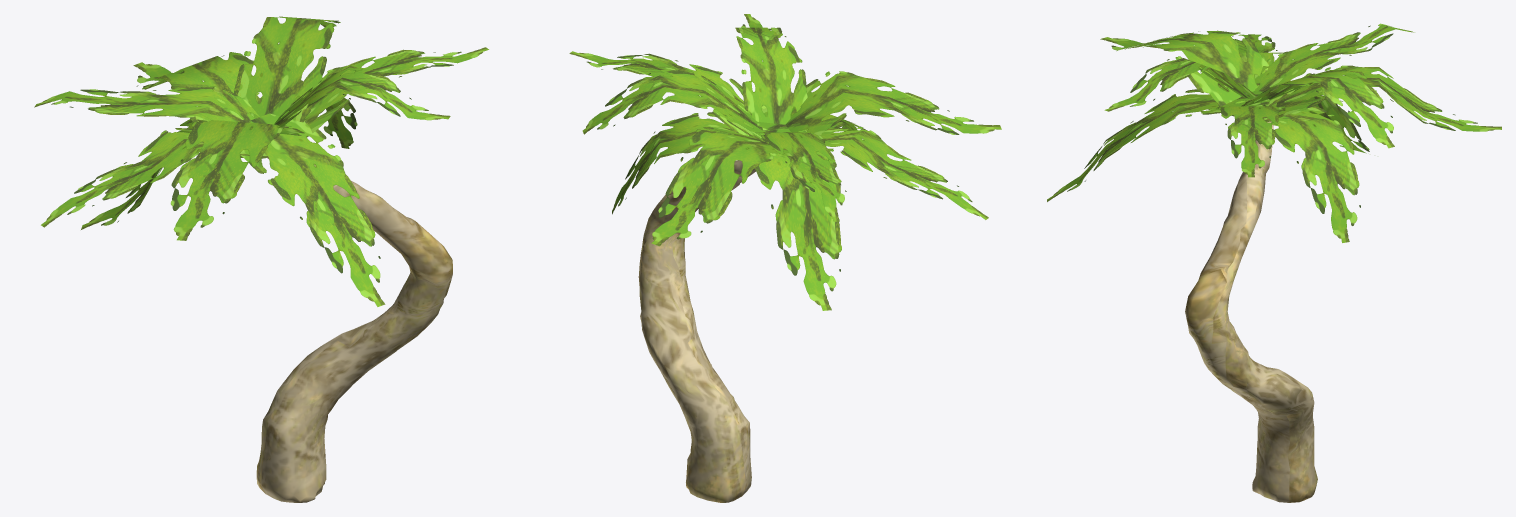
File: CoqueiroDetalhado.fbx
The picture shows the model from 3 angles, left to right: view 1: azimuth 30°, elevation 25°; view 2: azimuth 150°, elevation 25°; view 3: azimuth 270°, elevation 25°; orthographic projection. The views are drawn at different scales.
Visible parts, largest first — view 1: FolhaCoqueiroDetalhado.001, CoqueiroDetalhado.001; view 2: FolhaCoqueiroDetalhado.001, CoqueiroDetalhado.001; view 3: FolhaCoqueiroDetalhado.001, CoqueiroDetalhado.001.
Boxes of the visible parts, x1=… form: FolhaCoqueiroDetalhado.001: x1=34, y1=16, x2=488, y2=306; CoqueiroDetalhado.001: x1=256, y1=156, x2=452, y2=502; FolhaCoqueiroDetalhado.001: x1=569, y1=14, x2=1001, y2=310; CoqueiroDetalhado.001: x1=638, y1=160, x2=755, y2=502; FolhaCoqueiroDetalhado.001: x1=1047, y1=23, x2=1501, y2=242; CoqueiroDetalhado.001: x1=1185, y1=121, x2=1317, y2=502.
Bounding box in the file's own units: 506 × 490 × 467.
